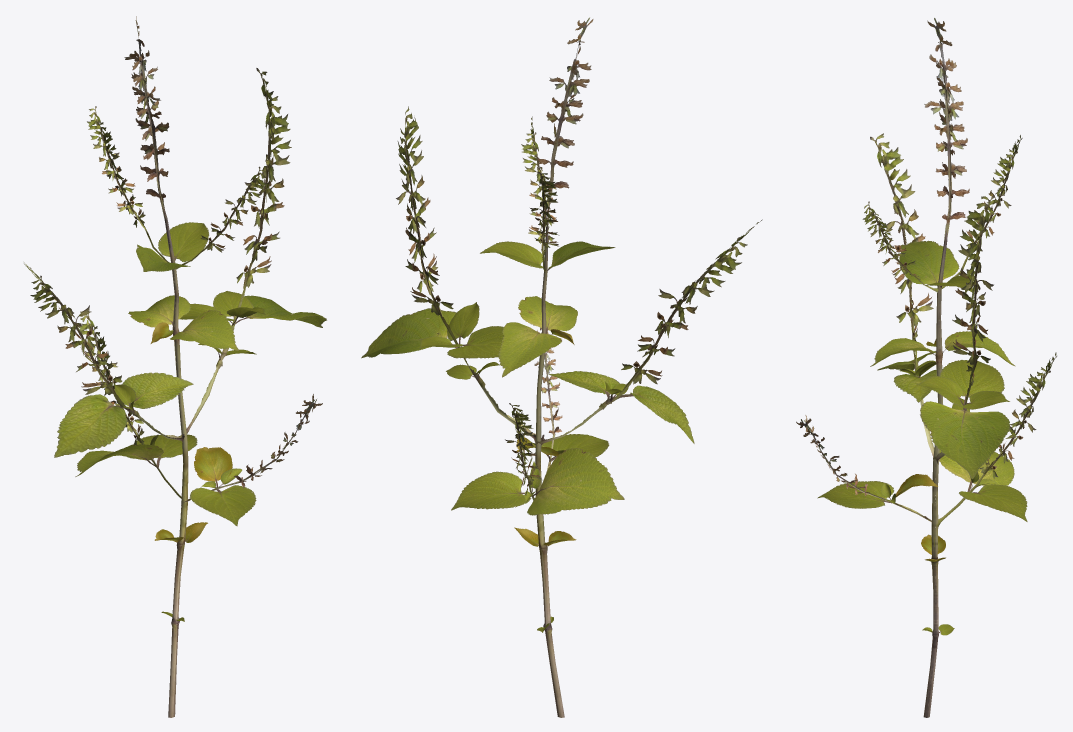
The model's file is shrub_03_b.gltf.
The picture shows the model from 3 angles, left to right: view 1: azimuth 30°, elevation 25°; view 2: azimuth 150°, elevation 25°; view 3: azimuth 270°, elevation 25°; orthographic projection. The views are drawn at different scales.
Parts seen in each view (by area): view 1: shrub_03_b; view 2: shrub_03_b; view 3: shrub_03_b.
Part boxes in pixels (<box>): shrub_03_b: <box>24,16,326,717</box>; shrub_03_b: <box>361,17,762,717</box>; shrub_03_b: <box>796,18,1056,717</box>.
Size of the model in its own units: 0.1843 by 0.3525 by 0.1226.
1 material, 1 textured.
